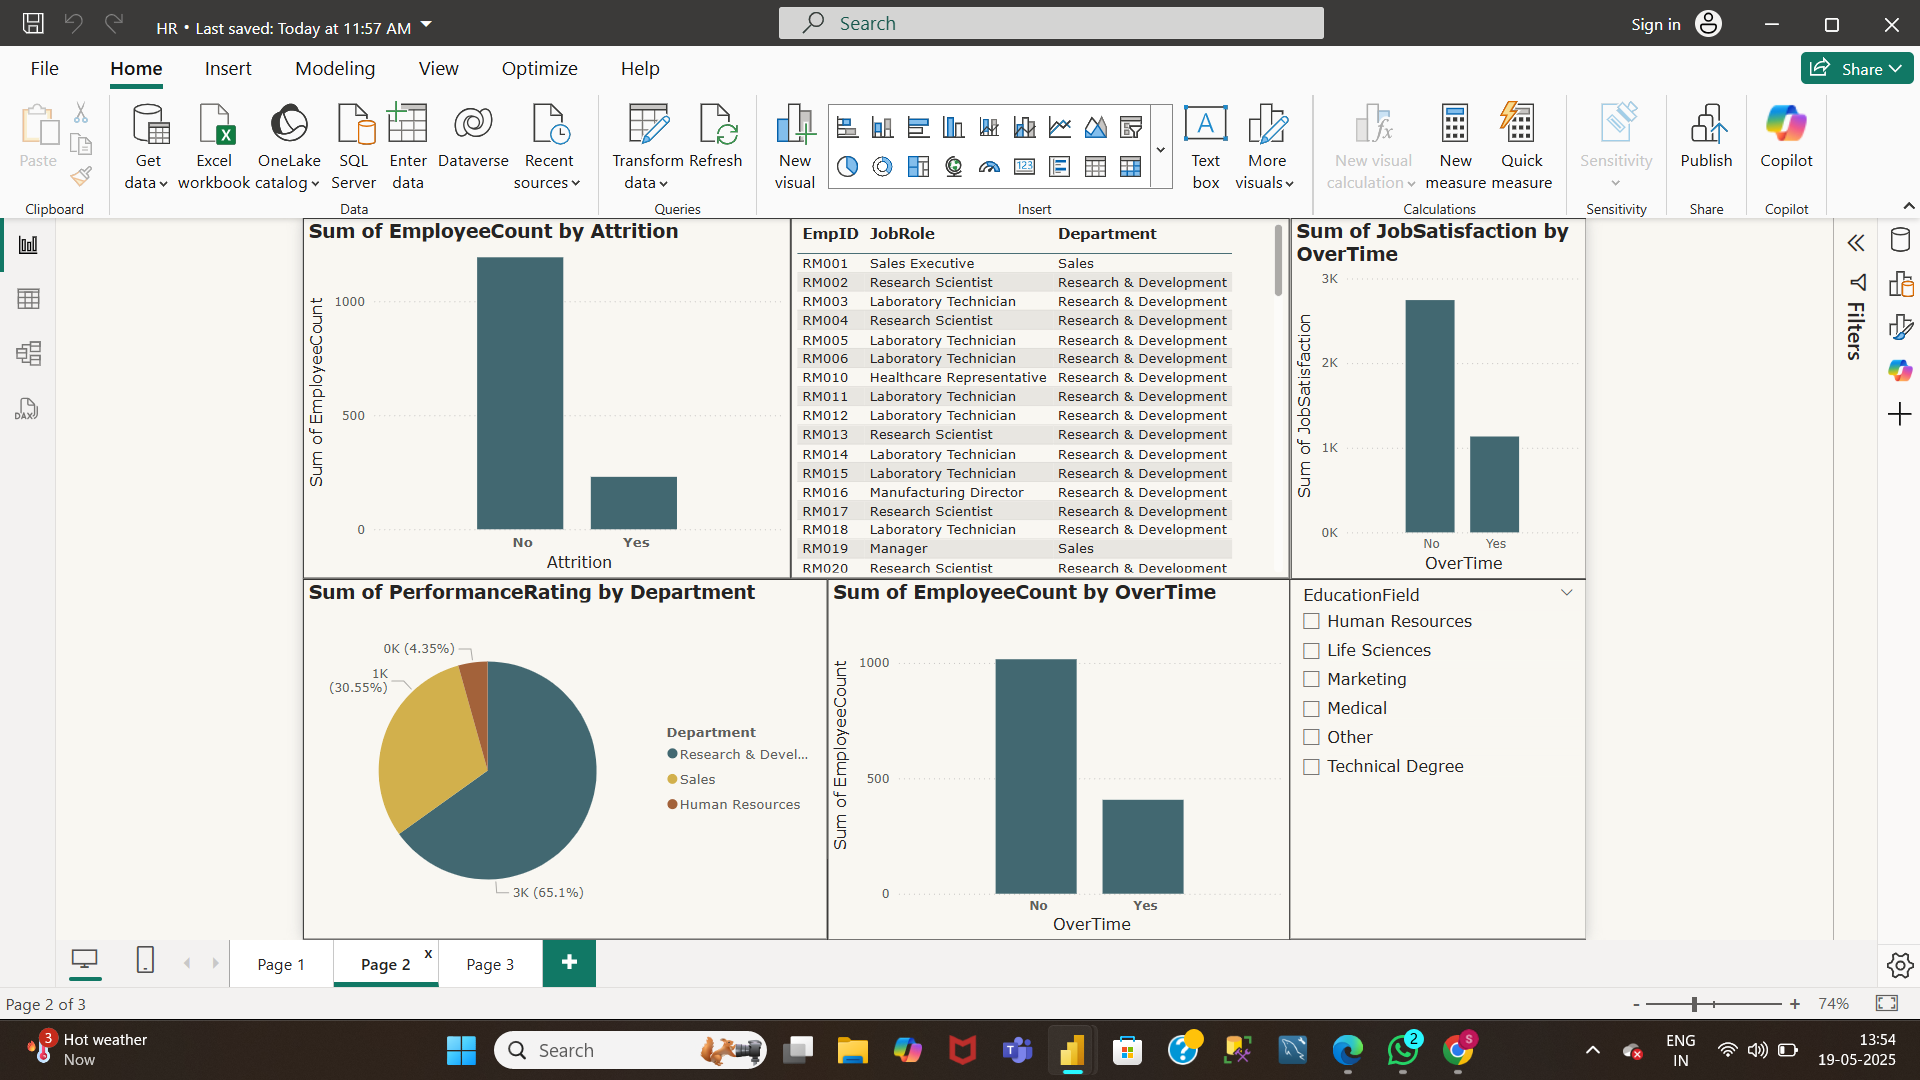

This screenshot's page, from the dashboard's own definition file:
{"tool":"powerbi","page":{"name":"Page 2","canvas":[1280,720],"ordinal":1},"visuals":[{"type":"columnChart","fields":{"Category":["HR_Analytics.Attrition"],"Y":["Sum(HR_Analytics.EmployeeCount)"]},"box":[0,0,486.5,359.7],"z":0},{"type":"pieChart","fields":{"Category":["HR_Analytics.Department"],"Y":["Sum(HR_Analytics.PerformanceRating)"]},"box":[0,359.7,523,359.7],"z":1000},{"type":"tableEx","fields":{"Values":["HR_Analytics.EmpID","HR_Analytics.JobRole","HR_Analytics.Department"]},"box":[486.5,0,497.6,359.7],"z":2000},{"type":"clusteredColumnChart","fields":{"Y":["Sum(HR_Analytics.EmployeeCount)"],"Category":["HR_Analytics.OverTime"]},"box":[523,360,462,360],"z":3000},{"type":"slicer","fields":{"Values":["HR_Analytics.EducationField"]},"box":[984.1,359.7,296.3,359.7],"z":4000},{"type":"columnChart","fields":{"Category":["HR_Analytics.OverTime"],"Y":["Sum(HR_Analytics.JobSatisfaction)"]},"box":[985,0,295,360],"z":5000}]}

Visuals, with their boxes on the page's 1280x720 design canvas (x1, y1, x2, y2). These are canvas units, not pixel positions in the 1920x1080 screenshot, which may show the page scaled, cropped or inside an application window:
columnChart - HR_Analytics.Attrition x Sum(HR_Analytics.EmployeeCount): [left=0, top=0, right=486, bottom=360]
pieChart - HR_Analytics.Department x Sum(HR_Analytics.PerformanceRating): [left=0, top=360, right=523, bottom=719]
tableEx - HR_Analytics.EmpID x HR_Analytics.JobRole: [left=486, top=0, right=984, bottom=360]
clusteredColumnChart - Sum(HR_Analytics.EmployeeCount) x HR_Analytics.OverTime: [left=523, top=360, right=985, bottom=720]
slicer - HR_Analytics.EducationField: [left=984, top=360, right=1280, bottom=719]
columnChart - HR_Analytics.OverTime x Sum(HR_Analytics.JobSatisfaction): [left=985, top=0, right=1280, bottom=360]
